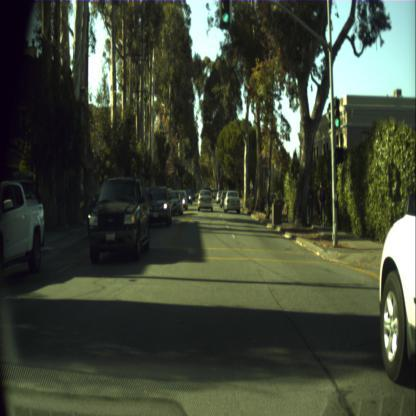Green: (220, 1, 232, 26), (334, 98, 340, 127)
